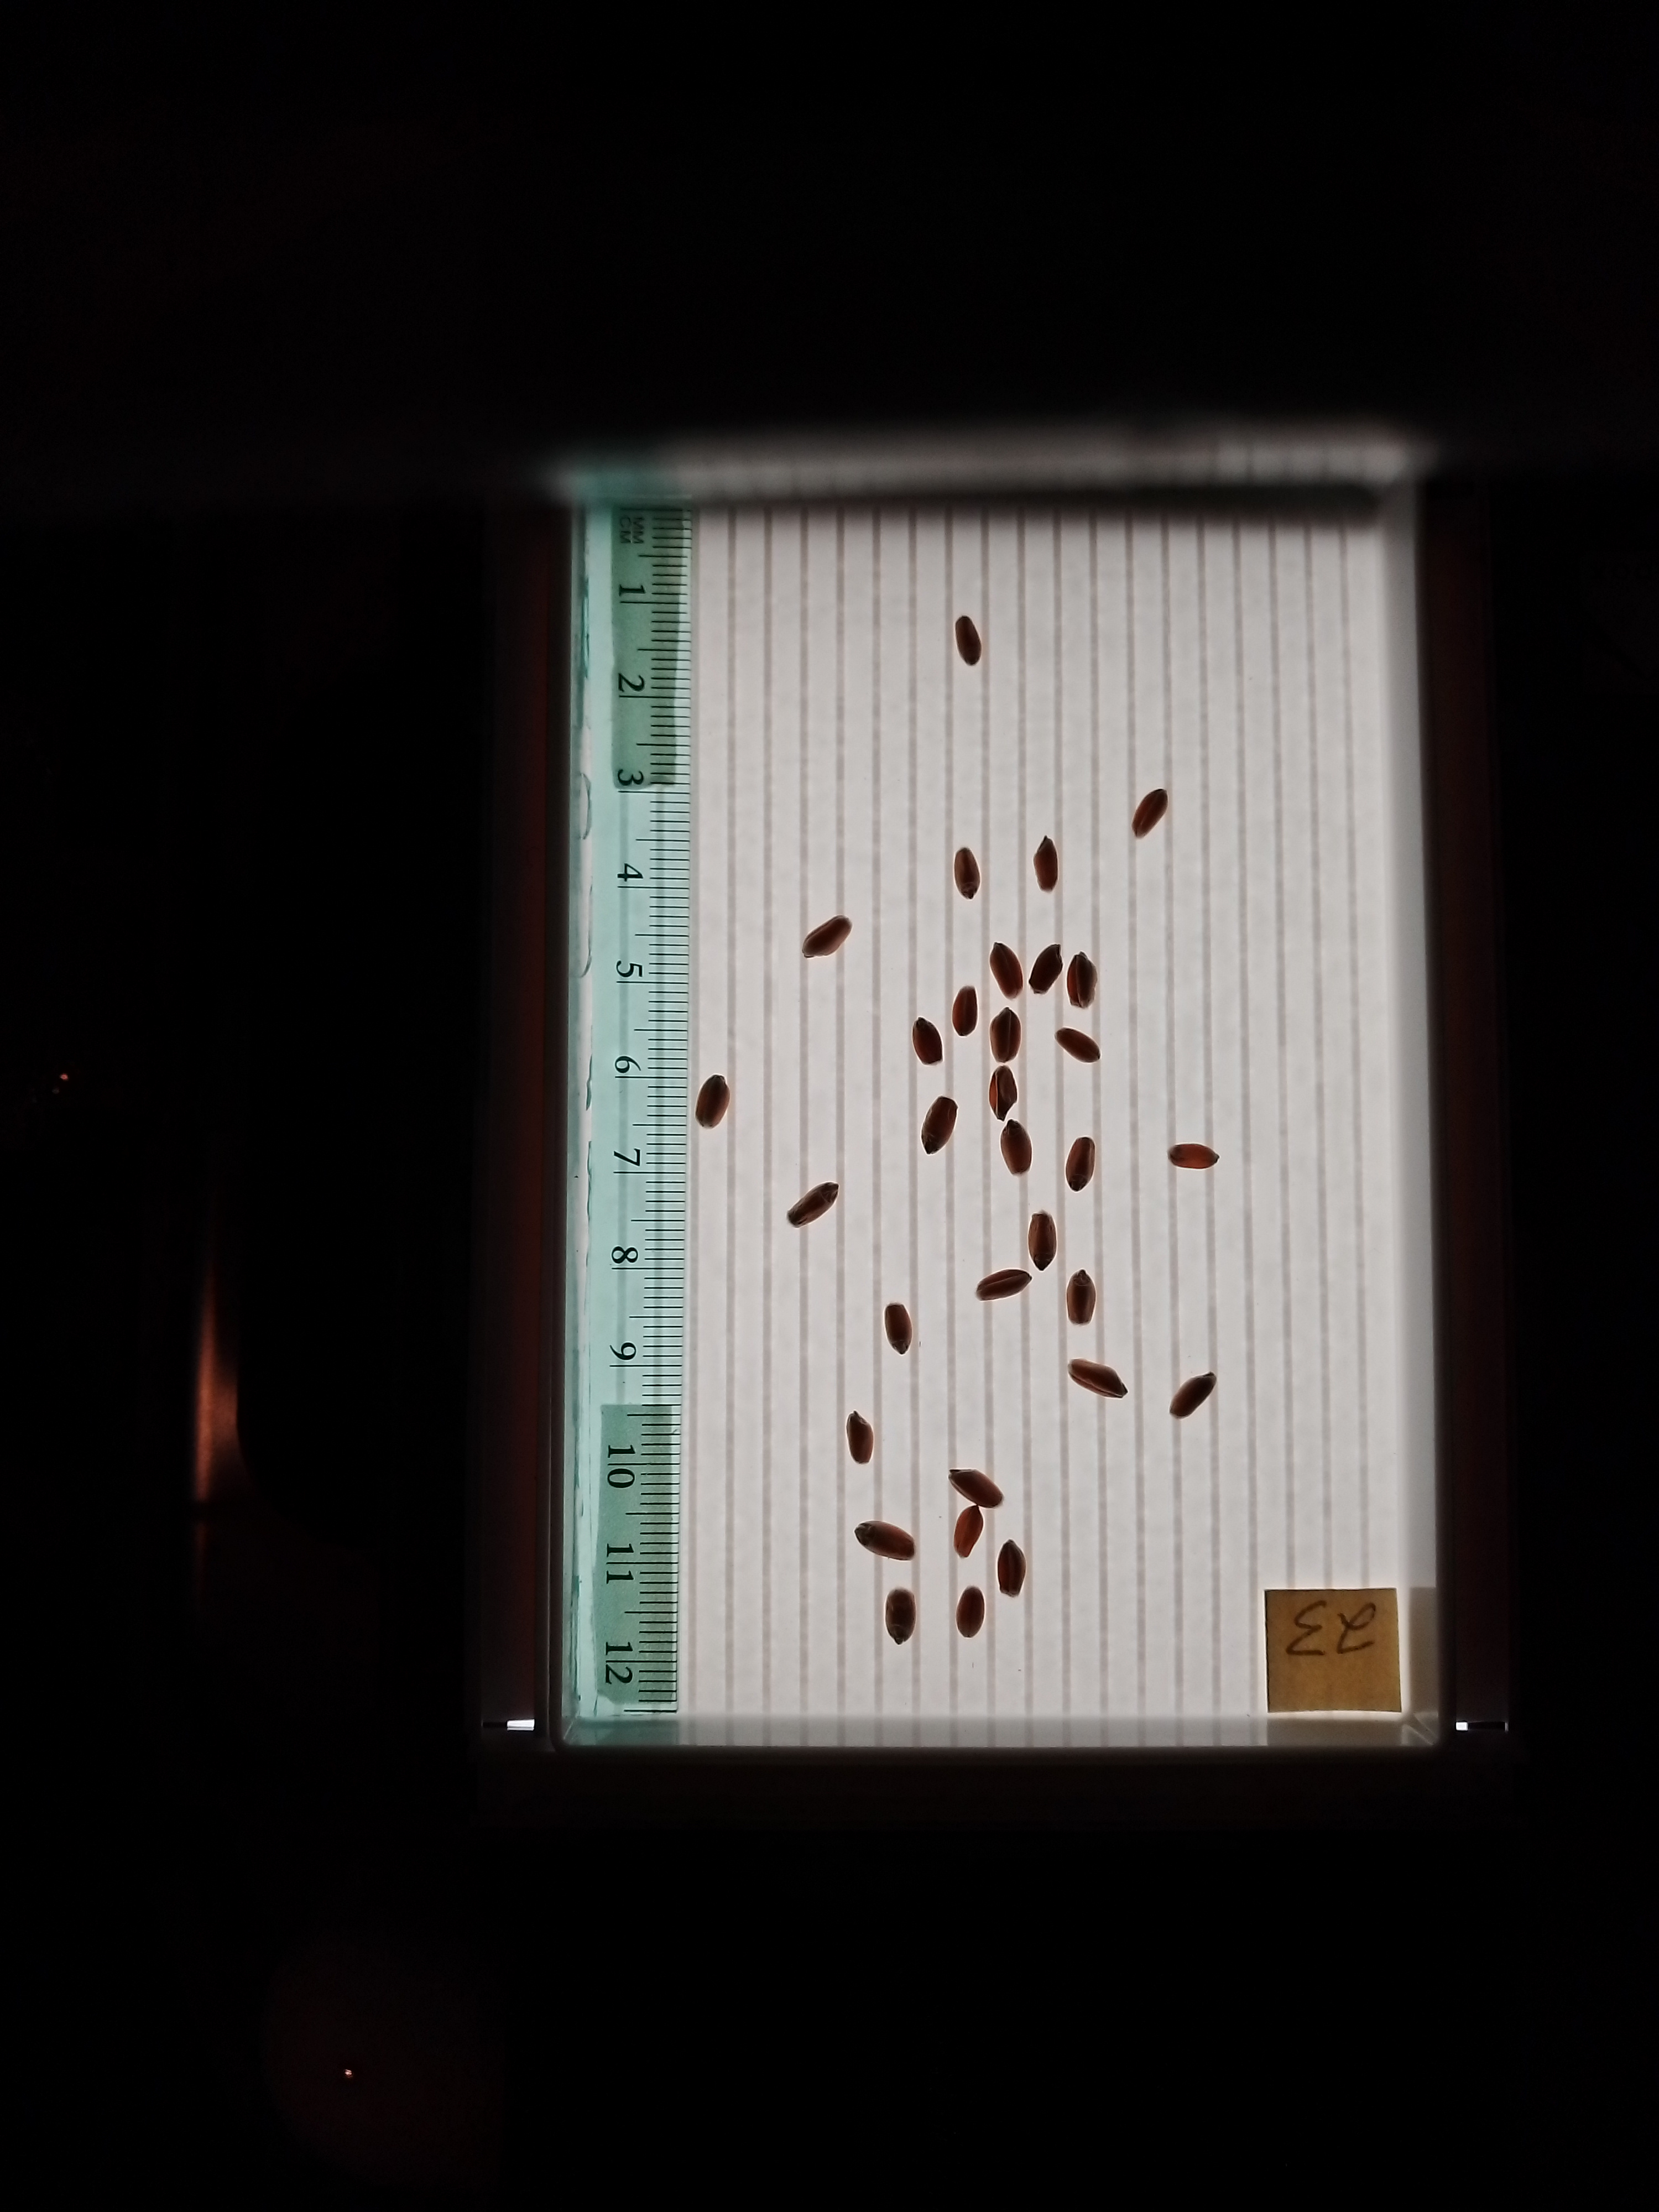seed mask: (788, 1181, 836, 1228), (856, 1522, 915, 1559), (950, 1468, 1002, 1508), (922, 1097, 957, 1155), (1070, 1362, 1124, 1399), (803, 916, 850, 958), (1171, 1374, 1215, 1416), (990, 944, 1023, 998), (697, 1075, 730, 1129), (976, 1268, 1028, 1301), (1133, 789, 1168, 836), (1065, 1139, 1096, 1191), (885, 1590, 917, 1642), (1030, 946, 1063, 995), (1066, 953, 1096, 1007), (997, 1541, 1026, 1595), (1000, 1123, 1032, 1174), (990, 1010, 1019, 1062), (1028, 1214, 1056, 1268), (1066, 1273, 1096, 1324), (884, 1303, 913, 1353), (1058, 1029, 1100, 1064), (953, 848, 981, 899), (913, 1019, 943, 1066), (988, 1069, 1018, 1116), (847, 1414, 875, 1463), (951, 986, 978, 1036), (1035, 838, 1060, 892), (1169, 1143, 1216, 1170), (955, 1508, 983, 1555), (955, 617, 981, 664), (958, 1590, 985, 1637)
